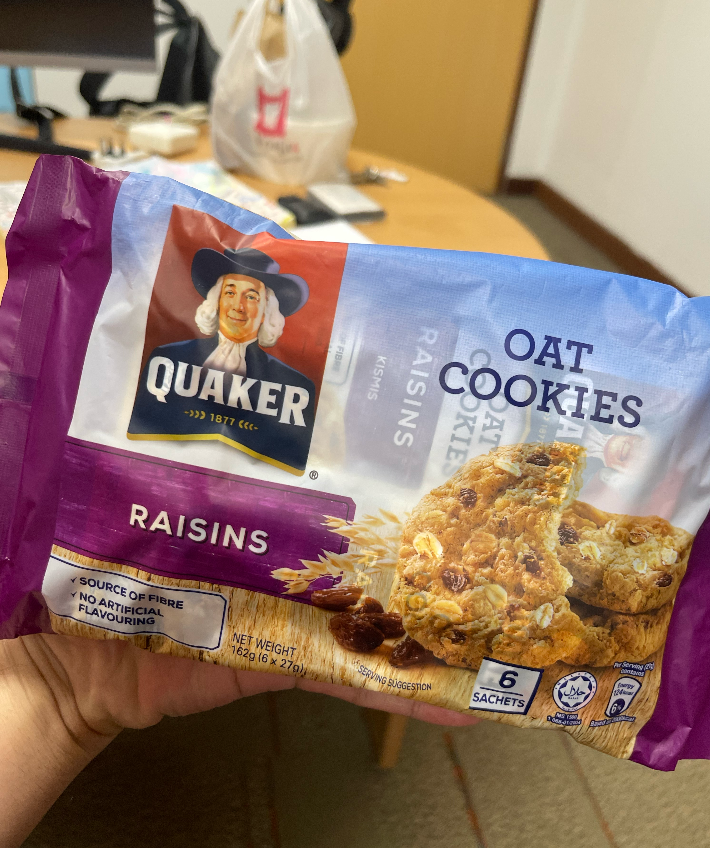cookies_100g-199g: (101, 252, 642, 709)
